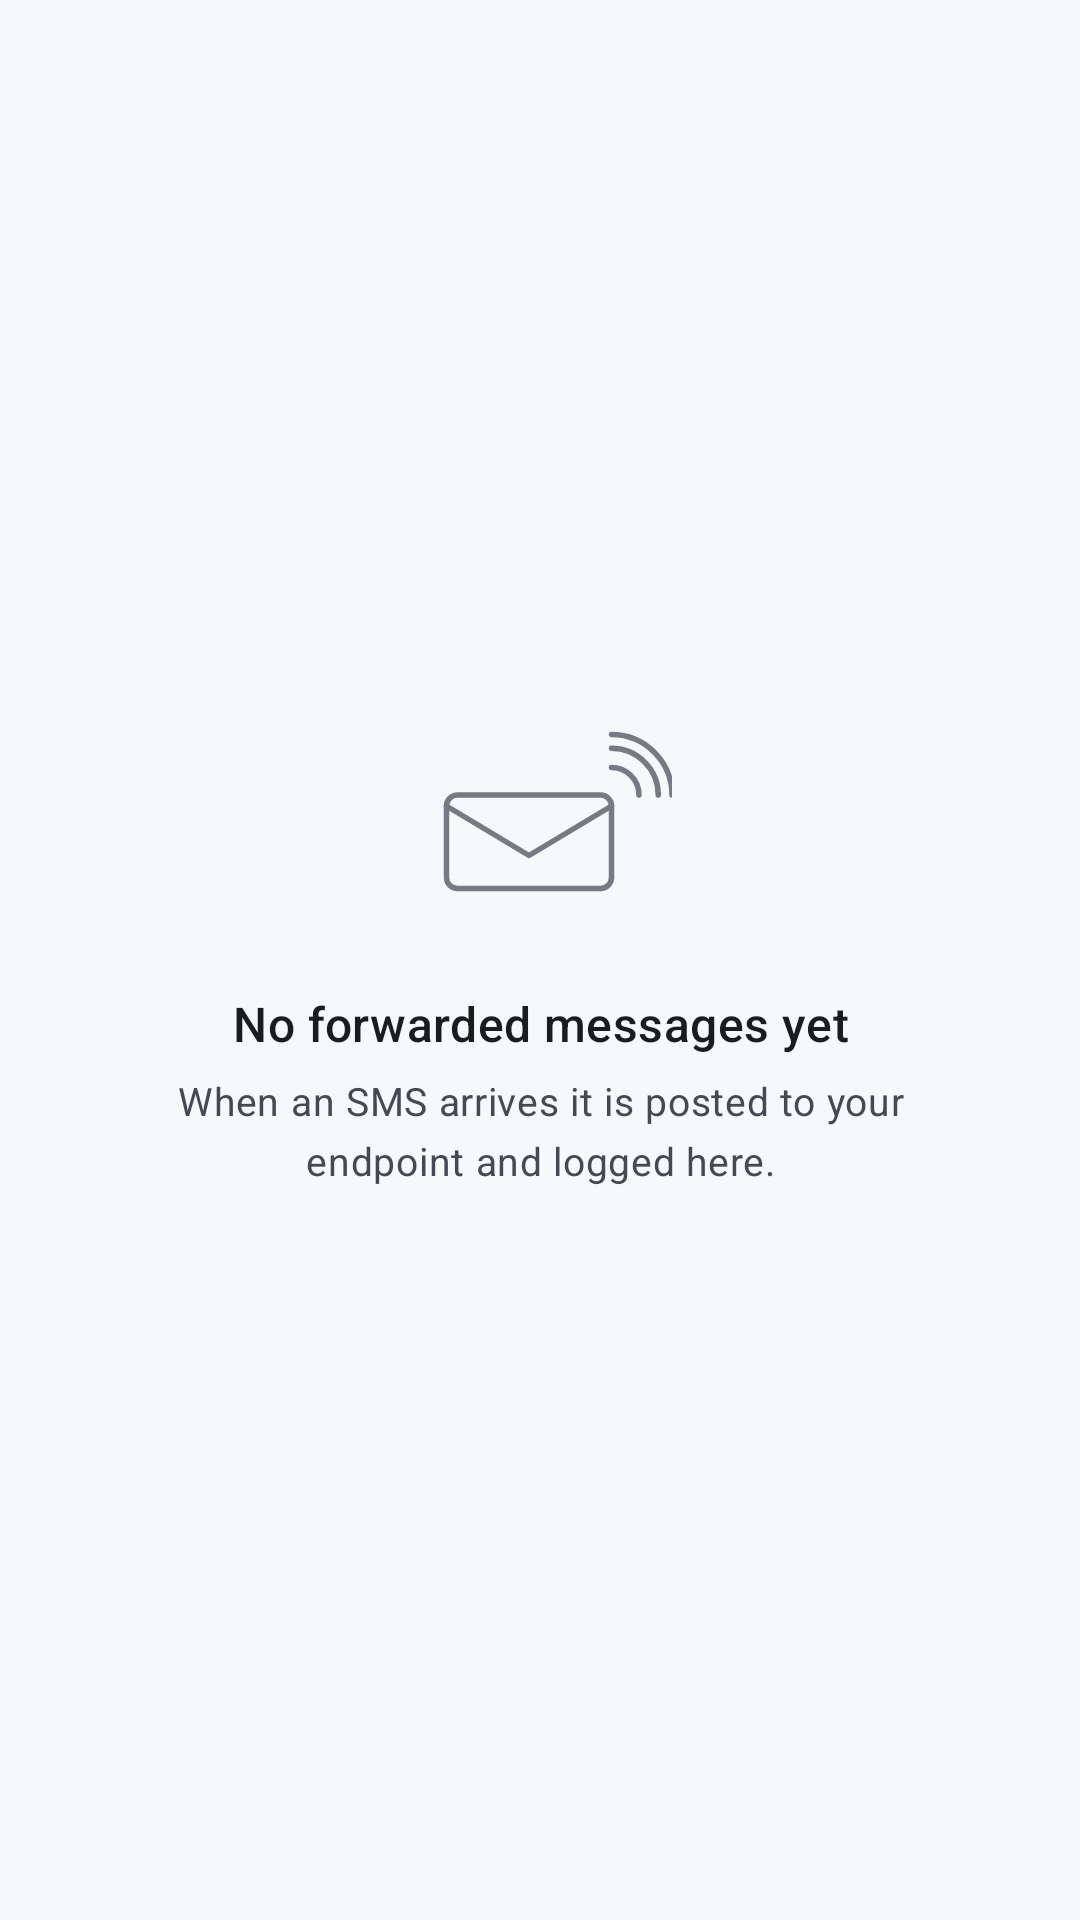

Where icons sit on this 1080w x 1920h app screen, as (x1,y1,x2,y2):
empty relay: (443,731,672,892)
